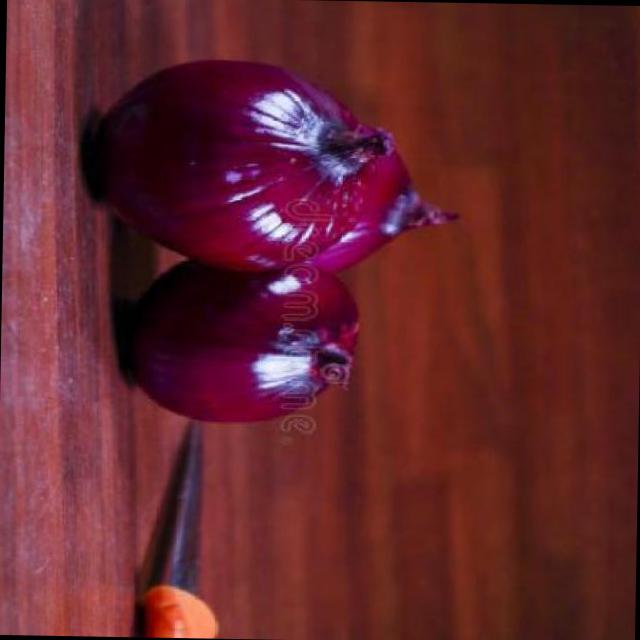Onion: (94, 60, 391, 268), (124, 261, 356, 422), (303, 146, 458, 272)
